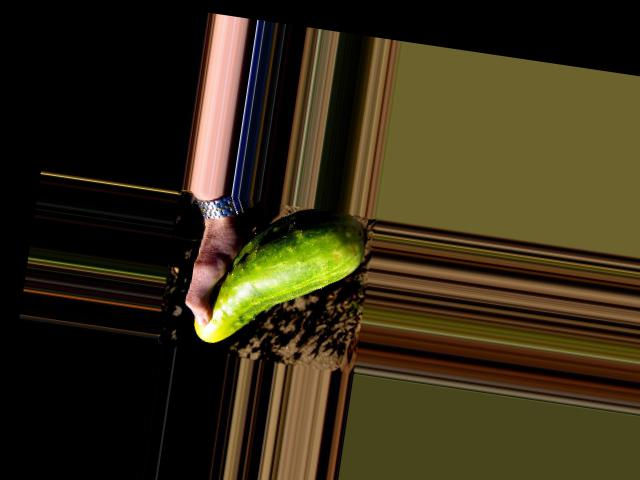cucumber: (191, 192, 371, 362)
